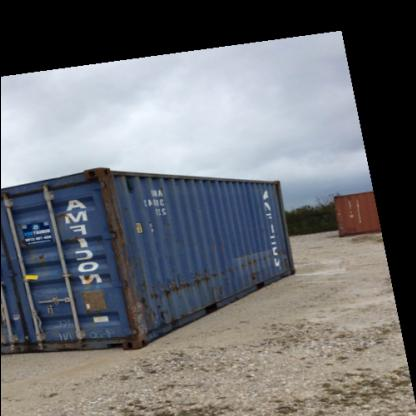Damage: (138, 260, 232, 300), (96, 173, 126, 239), (46, 316, 122, 340), (13, 232, 50, 268), (238, 256, 272, 280), (72, 270, 104, 287), (143, 210, 172, 228), (58, 202, 74, 218)
